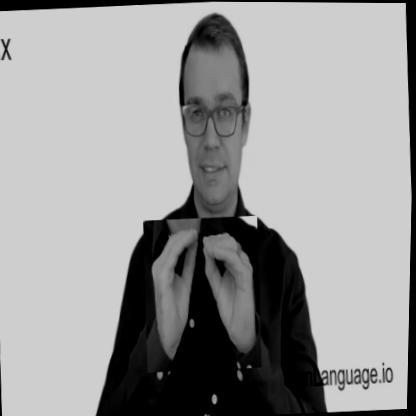Fix: (141, 214, 266, 373)
